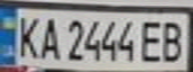2: (63, 15, 84, 62)
4: (115, 16, 139, 63), (81, 16, 103, 62), (100, 16, 121, 62)
A: (36, 14, 63, 61)
B: (157, 17, 190, 64)
E: (136, 17, 166, 64)
K: (12, 12, 42, 60)
